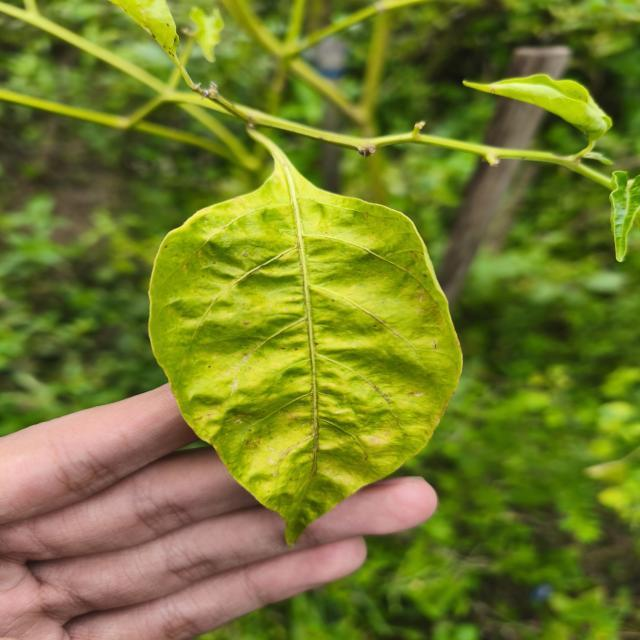Virus Kuning: (146, 162, 464, 547)
